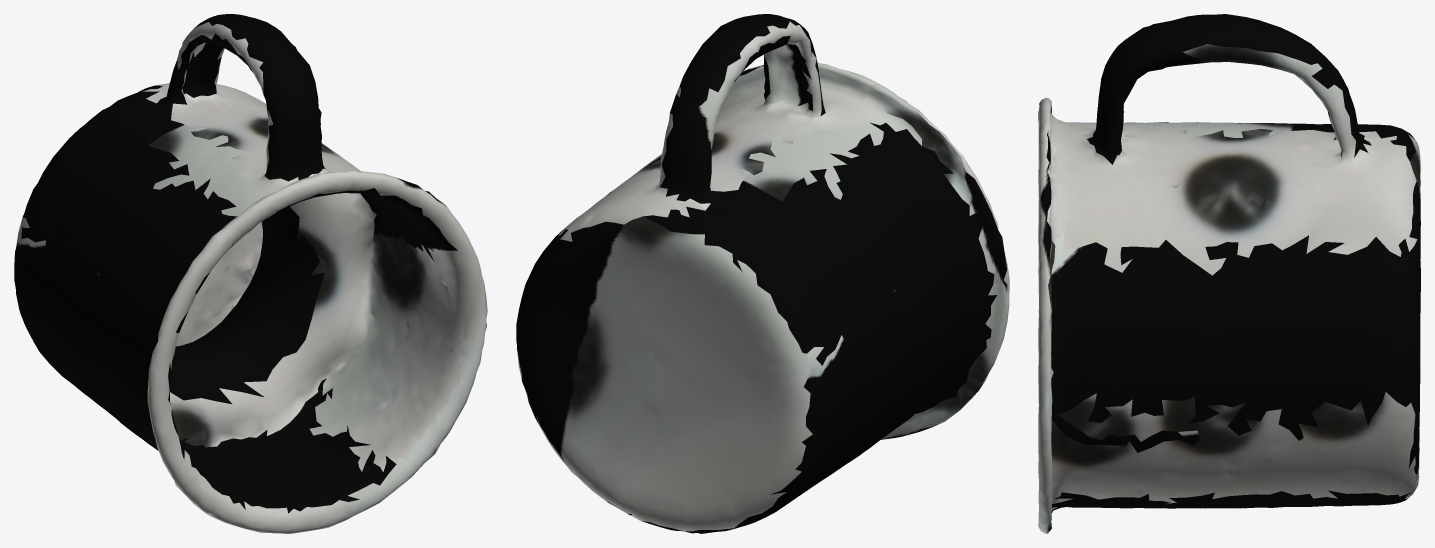
3 renders of one model, left to right at view 1: azimuth 30°, elevation 25°; view 2: azimuth 150°, elevation 25°; view 3: azimuth 270°, elevation 25°, orthographic. The views are drawn at different scales.
Parts seen in each view (by area): view 1: textured.021; view 2: textured.021; view 3: textured.021.
Part boxes in pixels (<box>): textured.021: <box>14,14,487,533</box>; textured.021: <box>516,14,1009,533</box>; textured.021: <box>1038,14,1420,533</box>.
Size of the model in its own units: 0.0931 by 0.117 by 0.0813.
